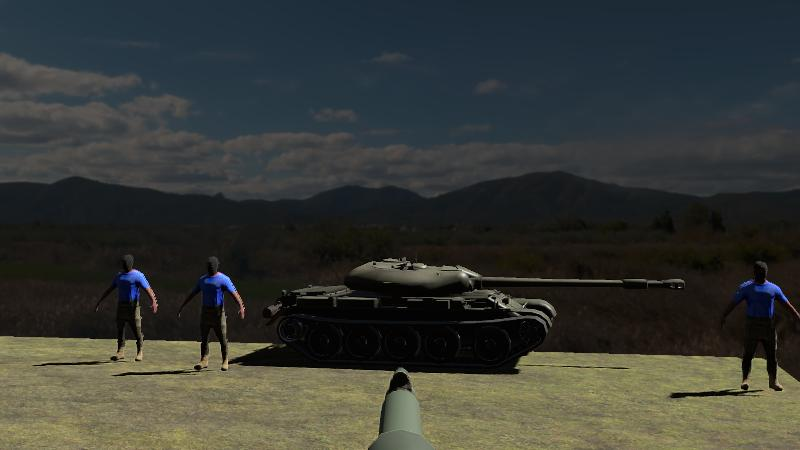Human: (718, 259, 800, 393), (178, 257, 244, 372), (95, 255, 157, 362)
Tank: (264, 258, 679, 373)
